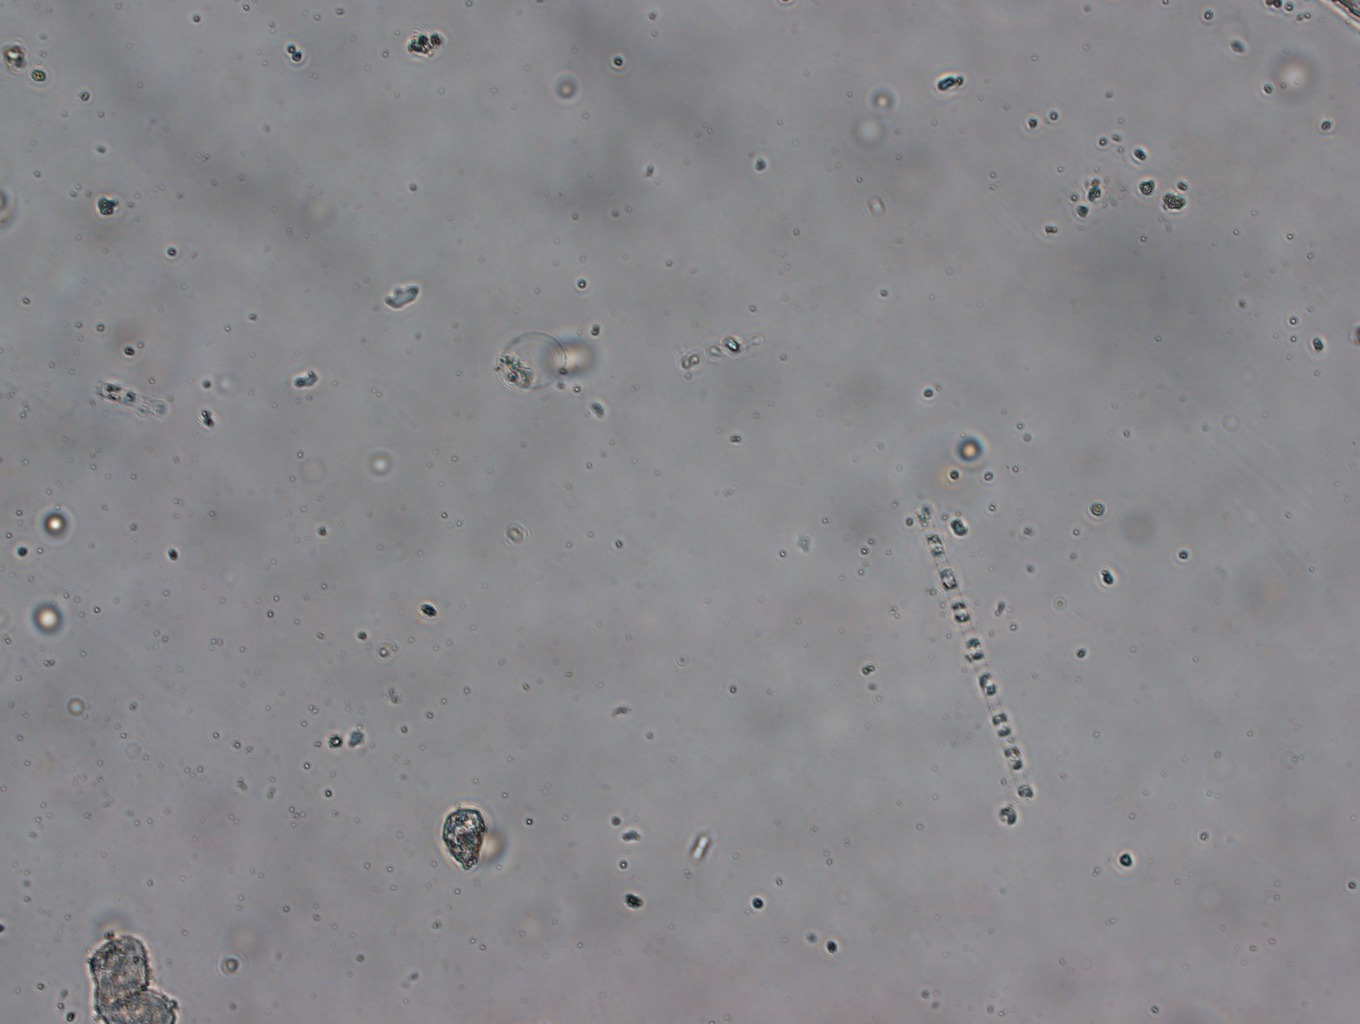skeletonema: (915, 499, 1035, 806)
